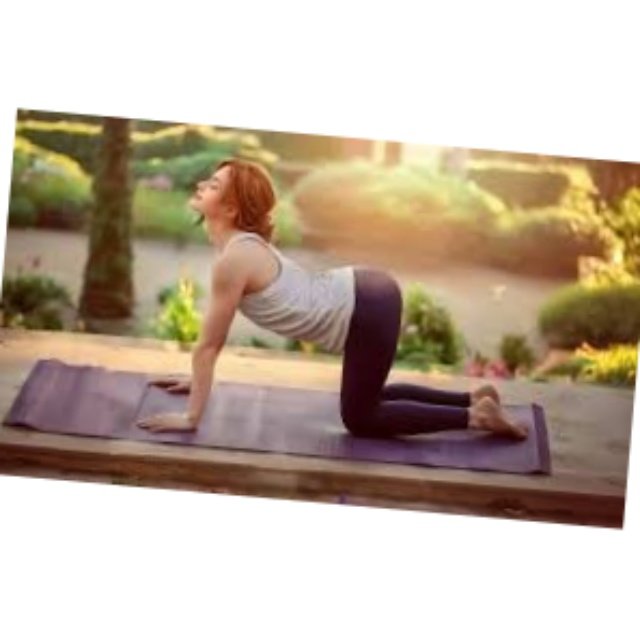Cow_Pose: (132, 161, 529, 443)
